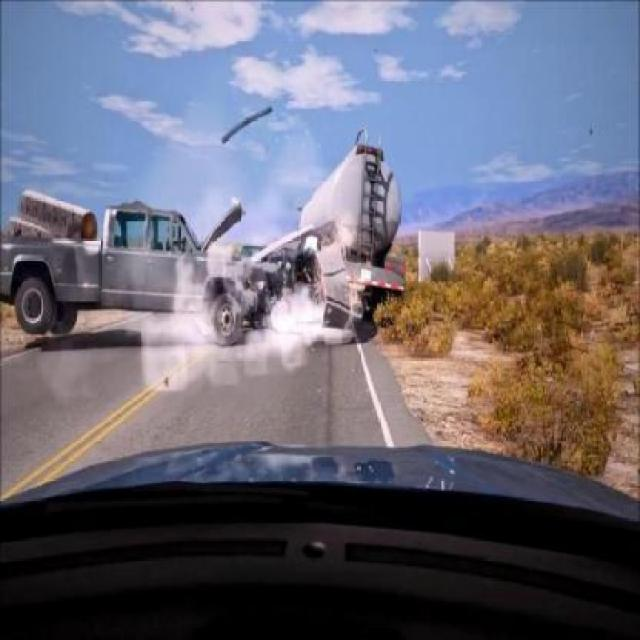accident: (1, 138, 399, 325)
